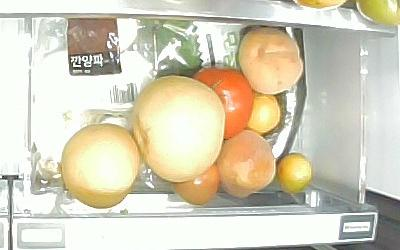peach: (237, 25, 303, 95), (216, 129, 278, 199)
pear: (132, 74, 226, 183), (60, 121, 141, 210)
tangerine: (276, 152, 313, 194), (245, 93, 282, 134)
tomato: (189, 66, 254, 142), (173, 163, 219, 206)
